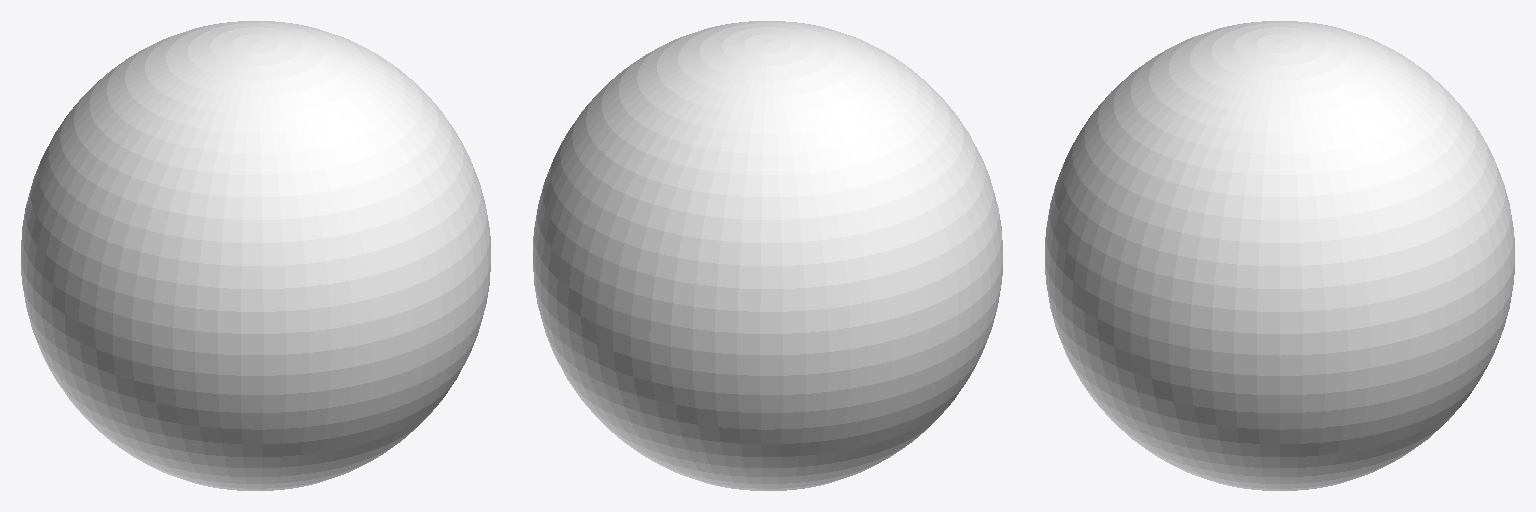
The model's file is skydome.obj.
3 views of the same model, side by side, from view 1: azimuth 30°, elevation 25°; view 2: azimuth 150°, elevation 25°; view 3: azimuth 270°, elevation 25° (orthographic).
Parts seen in each view (by area): view 1: Sphere; view 2: Sphere; view 3: Sphere.
Boxes of the visible parts, x1=… form: Sphere: x1=21, y1=21, x2=490, y2=490; Sphere: x1=533, y1=21, x2=1002, y2=490; Sphere: x1=1045, y1=21, x2=1514, y2=490.
Size of the model in its own units: 2 by 2 by 2.